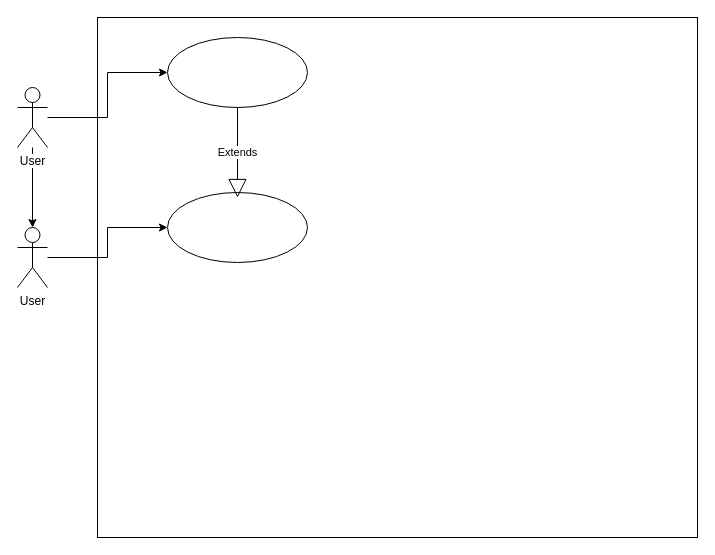
Image size: 715x555. Some labels were removed from this diagram. The shapes that lost their labels are listed below. From the top down, each one's centre as x and y in pixels, then its label:
At point 237,72: "Login".
At point 237,227: "Sign Up".
